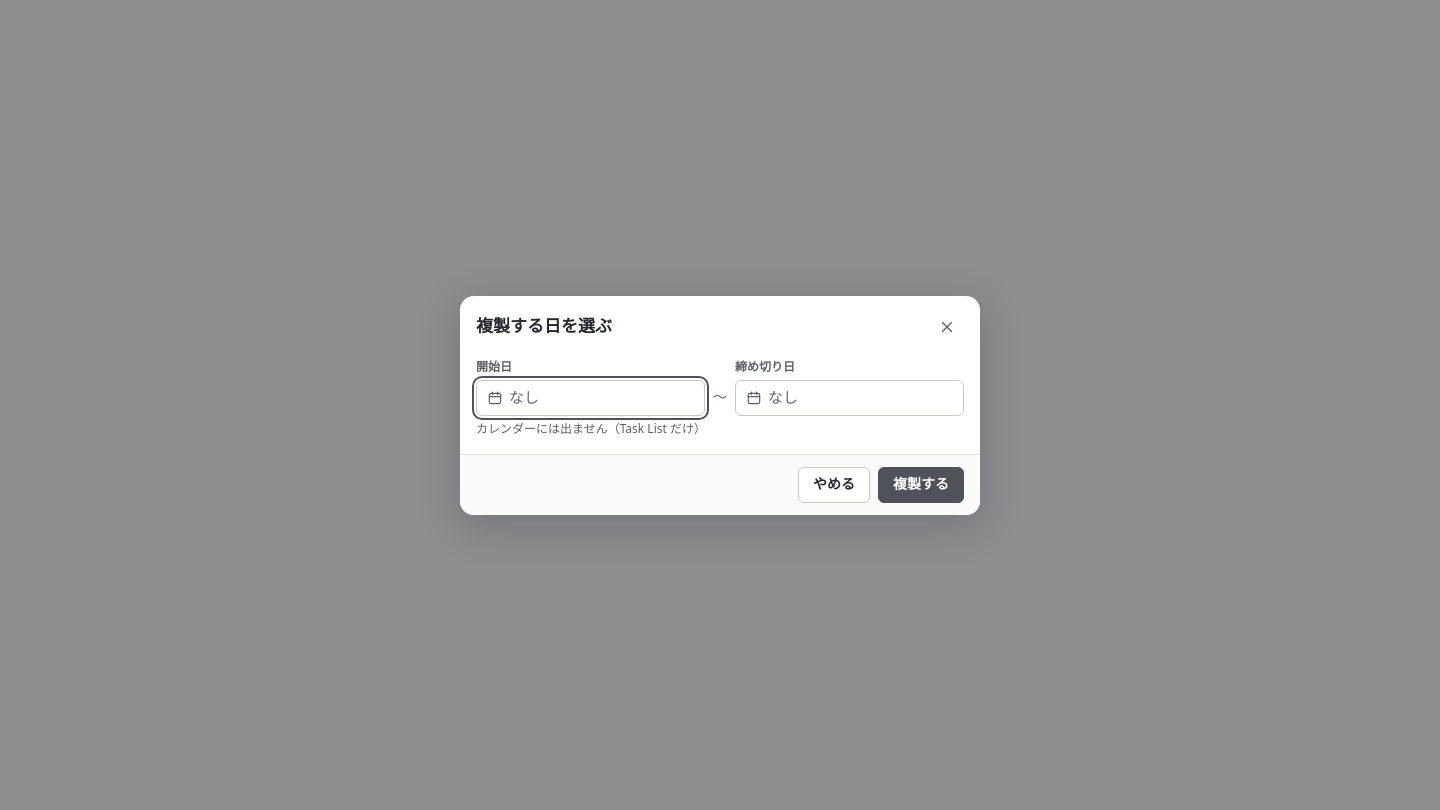
複製する日を選ぶ（12.7） › list 生まれは開始日・締め切り日とも任意で、今どう出るかの1行を出す。日付の無い複製は「Task List に複製しました［開く］」（ITEMS-256・D45）
Expected: the message with test id "dup-status-line" reads "カレンダーには出ません（Task List だけ）", x1=476 y1=420 x2=706 y2=436
Step 1. Click the button with test id "dup-submit" → (921, 484), box x1=878 y1=466 x2=964 y2=502
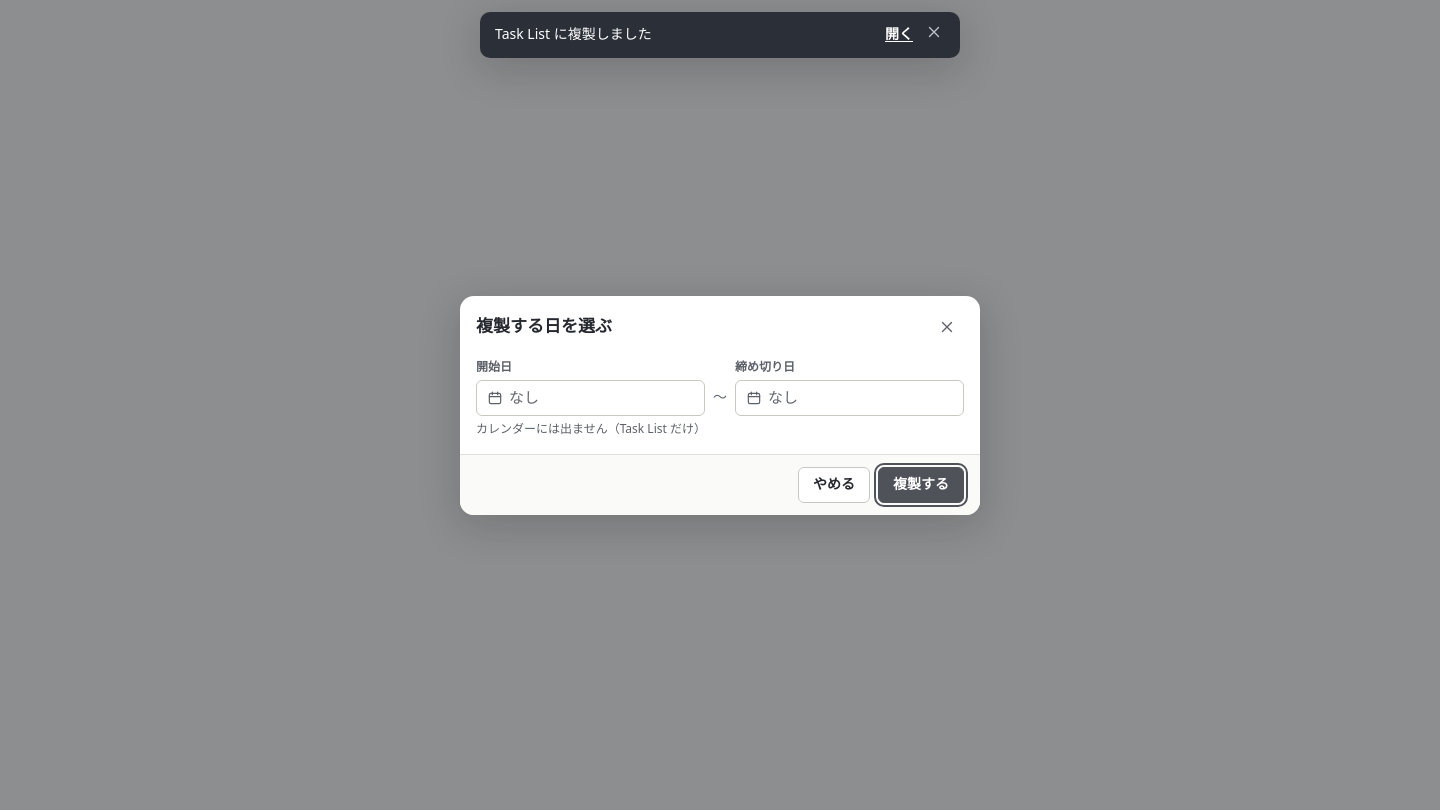
Now the text "Task List に複製しました" is shown, box x1=495 y1=24 x2=652 y2=43
